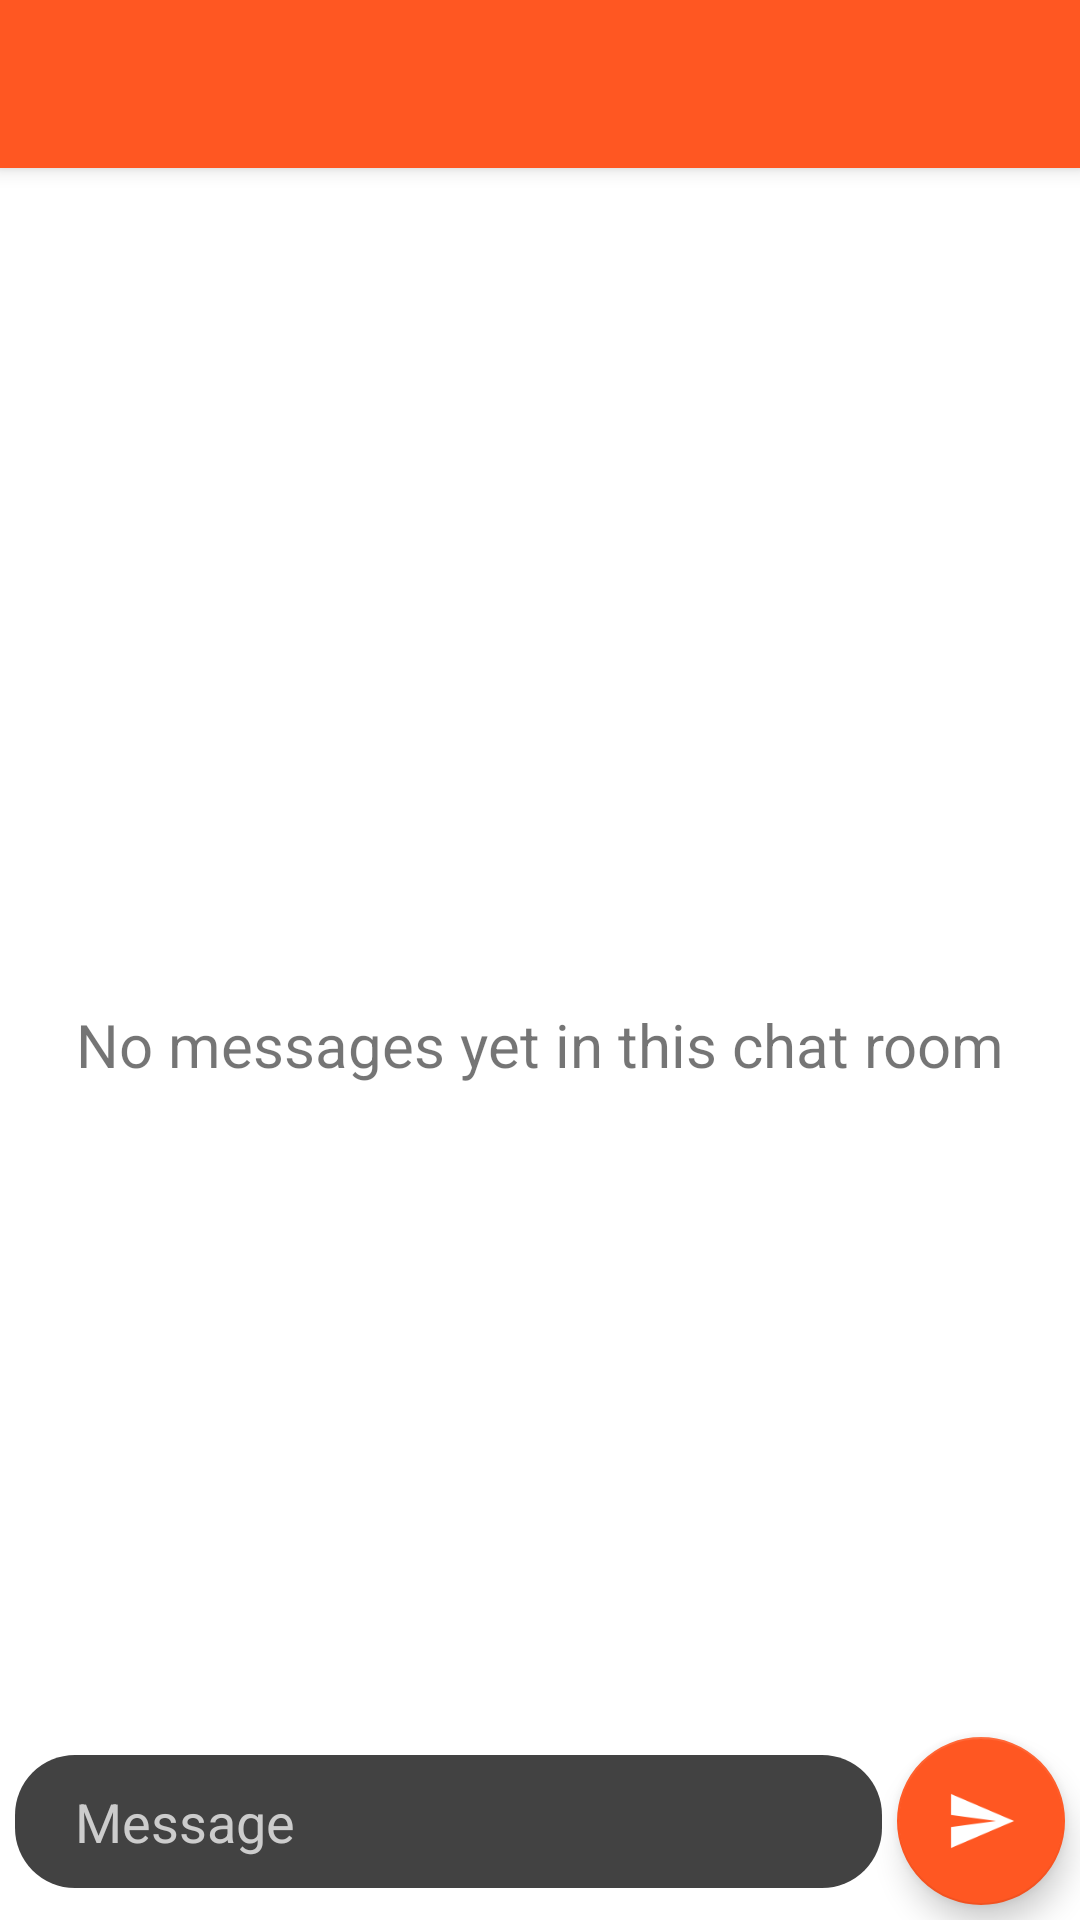

Where icons sit on this 1080x1920 app screen, as bbox(x1, y1, x2, y2):
Send icon: bbox(897, 1737, 1065, 1905)
